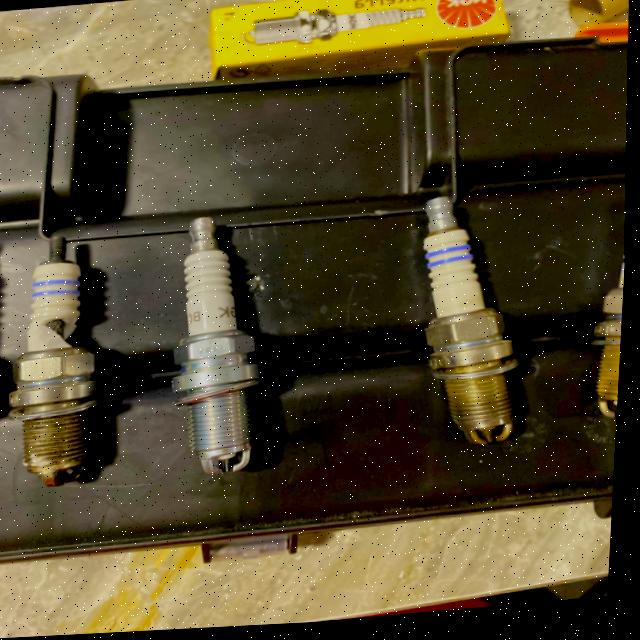damaged_spark-plug: (25, 227, 98, 484)
spark-plug: (406, 190, 541, 462), (173, 210, 258, 488)
